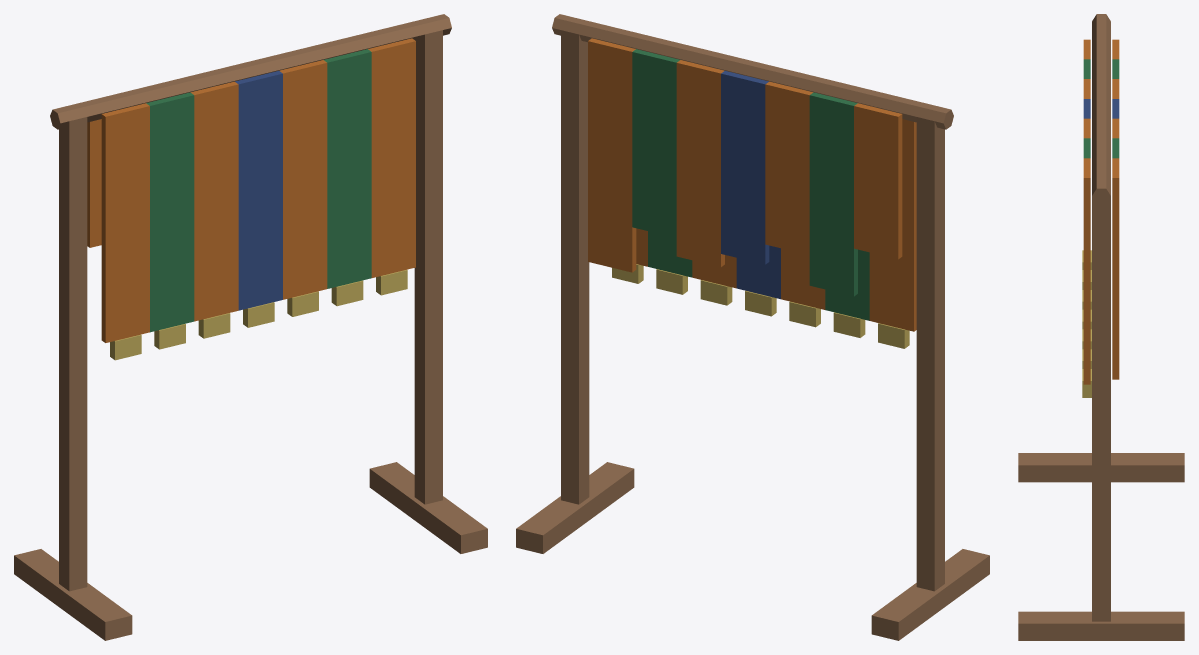
The model's file is kente-throw-roll-39.glb.
The picture shows the model from 3 angles, left to right: view 1: azimuth 30°, elevation 25°; view 2: azimuth 150°, elevation 25°; view 3: azimuth 270°, elevation 25°; orthographic projection. The views are drawn at different scales.
Parts seen in each view (by area): view 1: kente_throw_roll_39; view 2: kente_throw_roll_39; view 3: kente_throw_roll_39.
Boxes of the visible parts, x1=… form: kente_throw_roll_39: x1=14, y1=14, x2=487, y2=640; kente_throw_roll_39: x1=516, y1=14, x2=989, y2=640; kente_throw_roll_39: x1=1018, y1=14, x2=1184, y2=640.
Size of the model in its own units: 0.8681 by 1.05 by 0.3499.
